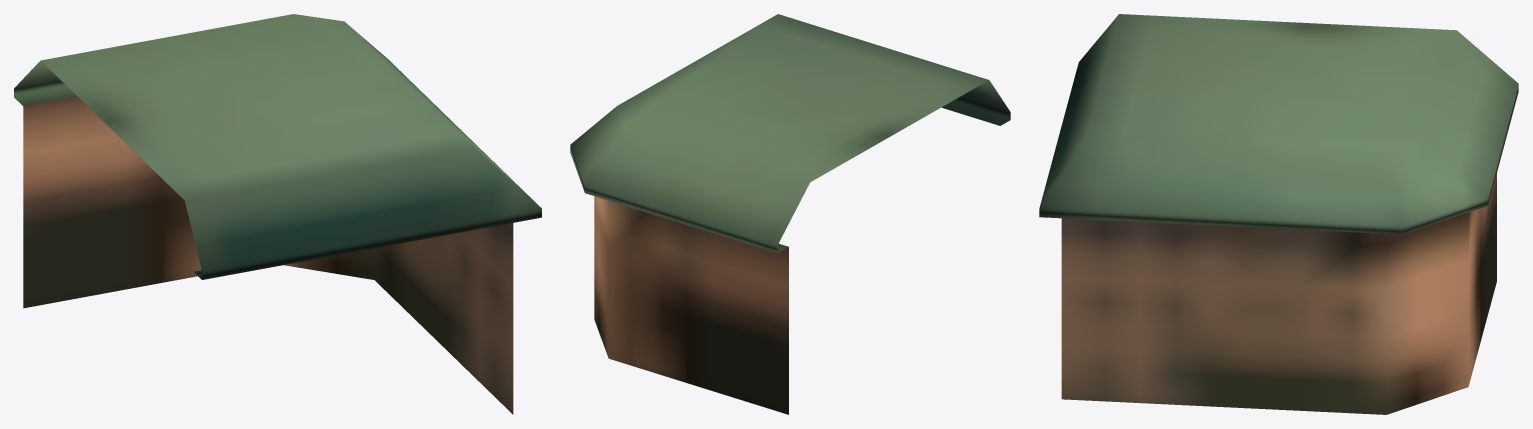
The model's file is sc_xcb_yj07_04_um.fbx.
3 renders of one model, left to right at view 1: azimuth 30°, elevation 25°; view 2: azimuth 150°, elevation 25°; view 3: azimuth 270°, elevation 25°, orthographic. The views are drawn at different scales.
Visible parts, largest first — view 1: sc_xcb_yj07_04; view 2: sc_xcb_yj07_04; view 3: sc_xcb_yj07_04.
Part boxes in pixels (left/top/right/bottom): sc_xcb_yj07_04: left=14, top=14, right=541, bottom=414; sc_xcb_yj07_04: left=570, top=14, right=1010, bottom=414; sc_xcb_yj07_04: left=1039, top=14, right=1518, bottom=414.
Bounding box in the file's own units: 11175 × 7917 × 13826.
